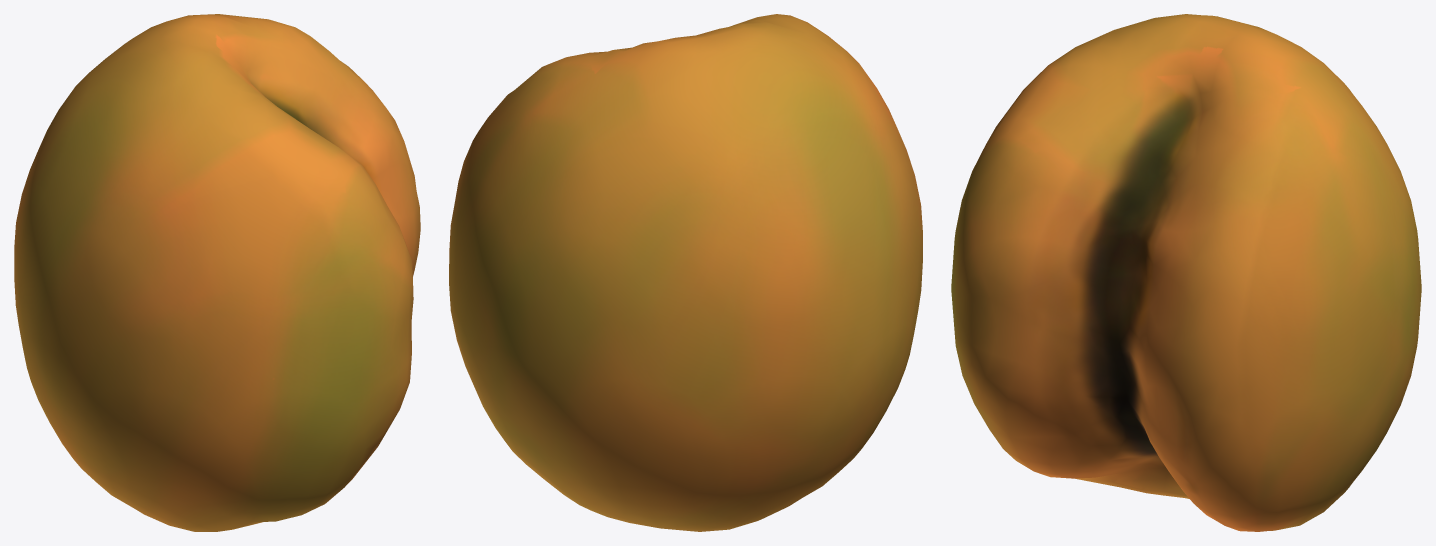
File: Seed.fbx
3 renders of one model, left to right at view 1: azimuth 30°, elevation 25°; view 2: azimuth 150°, elevation 25°; view 3: azimuth 270°, elevation 25°, orthographic. The views are drawn at different scales.
Visible parts, largest first — view 1: Seed; view 2: Seed; view 3: Seed.
Boxes of the visible parts, left/top/right/bottom form: Seed: left=14, top=14, right=420, bottom=531; Seed: left=449, top=14, right=922, bottom=531; Seed: left=951, top=14, right=1421, bottom=531.
Size of the model in its own units: 176 by 204 by 181.
